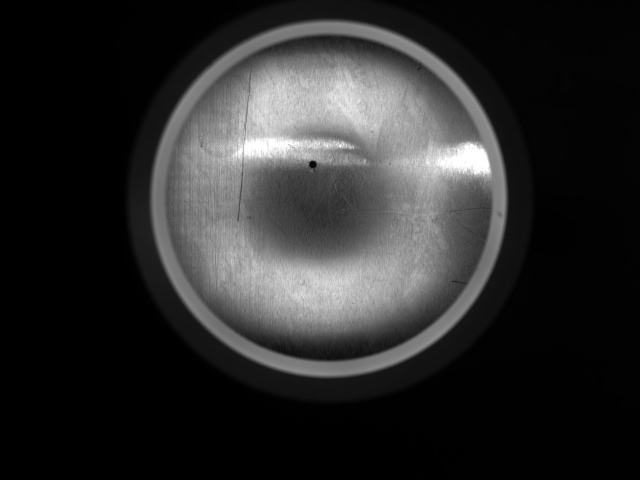ca_shang: (230, 54, 255, 222)
zhen_kong: (304, 159, 317, 172)
